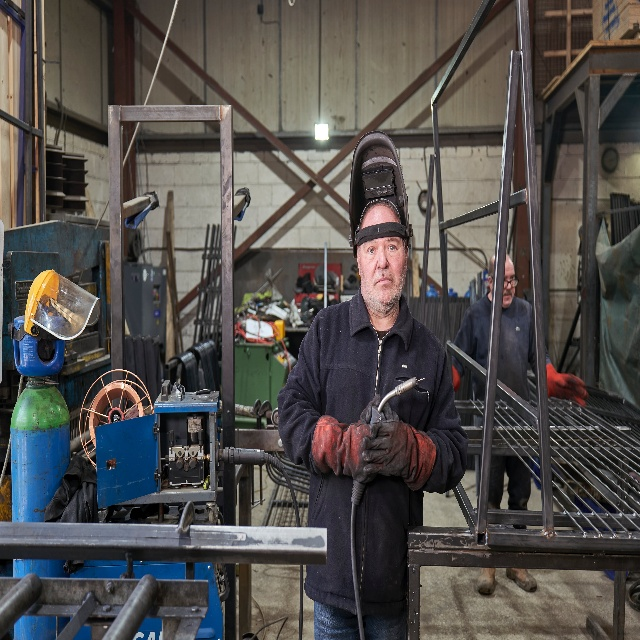Gafas: (503, 276, 518, 292)
Guantes: (359, 398, 432, 477), (313, 414, 380, 482), (547, 363, 585, 402)
